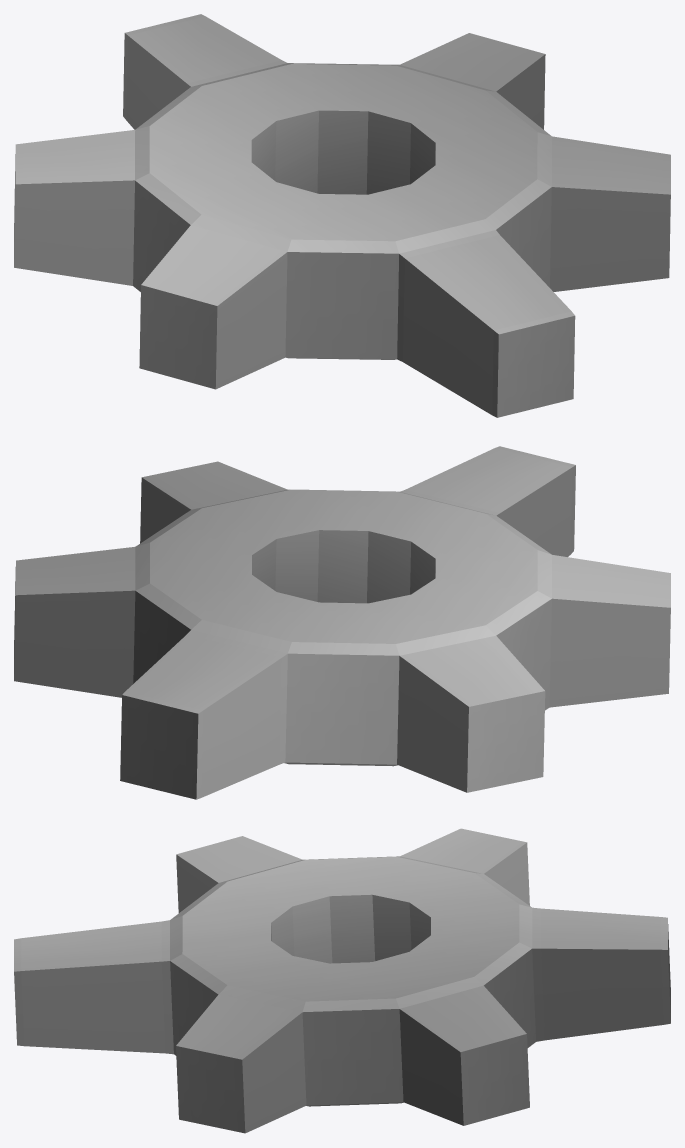
Rendered from Gear.fbx.
3 views of the same model, one above another, from view 1: azimuth 30°, elevation 25°; view 2: azimuth 150°, elevation 25°; view 3: azimuth 270°, elevation 25° (orthographic). The views are drawn at different scales.
Visible parts, largest first — view 1: Cylinder; view 2: Cylinder; view 3: Cylinder.
Boxes of the visible parts, x1,y1,x2,y2 form: Cylinder: (14,14,670,417); Cylinder: (14,446,670,799); Cylinder: (14,828,670,1133).
Size of the model in its own units: 284 by 67.9 by 350.
